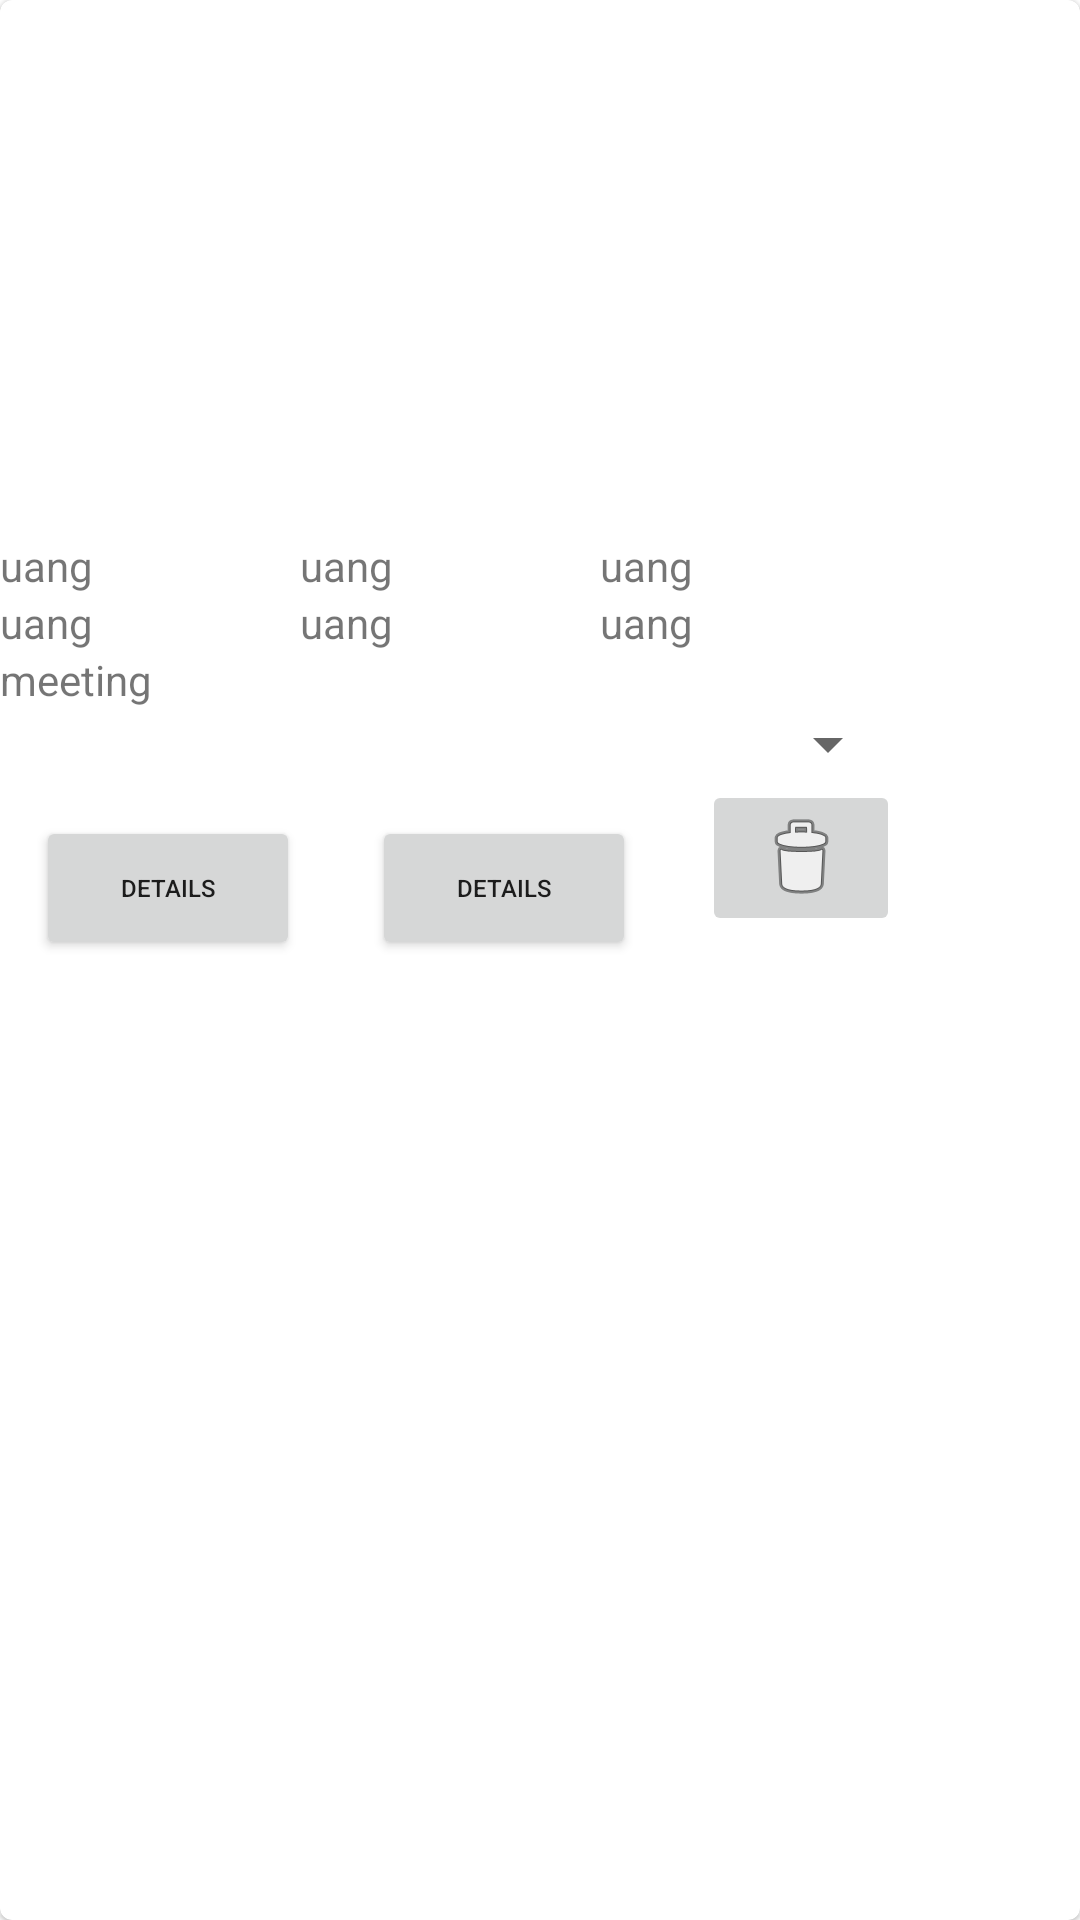

Where icons sit on this 1080 x 1920 app screen, as (x1, y1, x2, y2):
delete: (714, 798, 888, 918)
